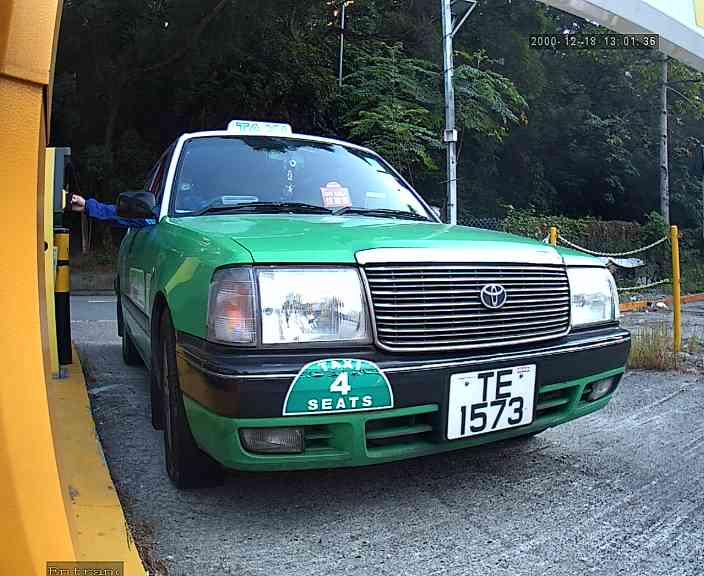Car: (95, 93, 640, 501)
License Plate: (431, 366, 544, 438)
